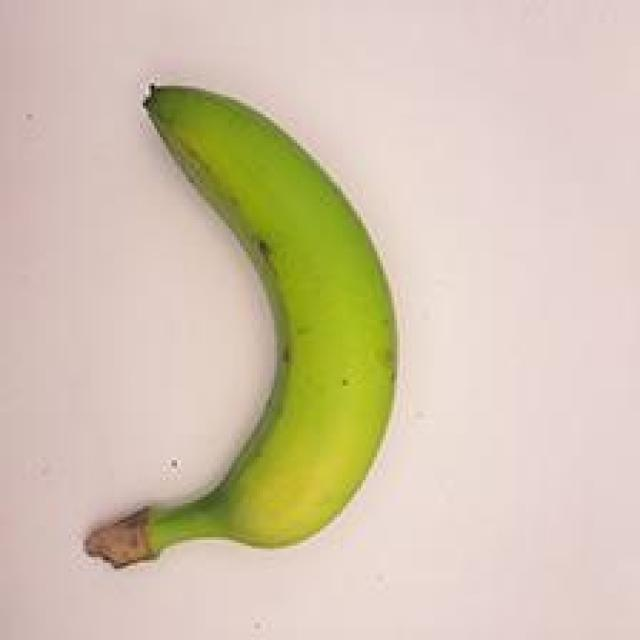Unripe: (50, 55, 422, 589)
